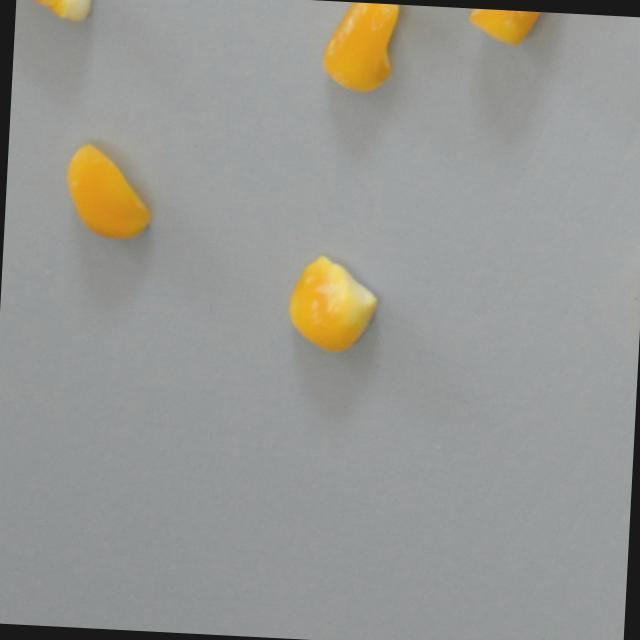dañado: (281, 251, 384, 361), (60, 141, 156, 245), (315, 0, 408, 95), (464, 7, 570, 50), (15, 0, 96, 26)
